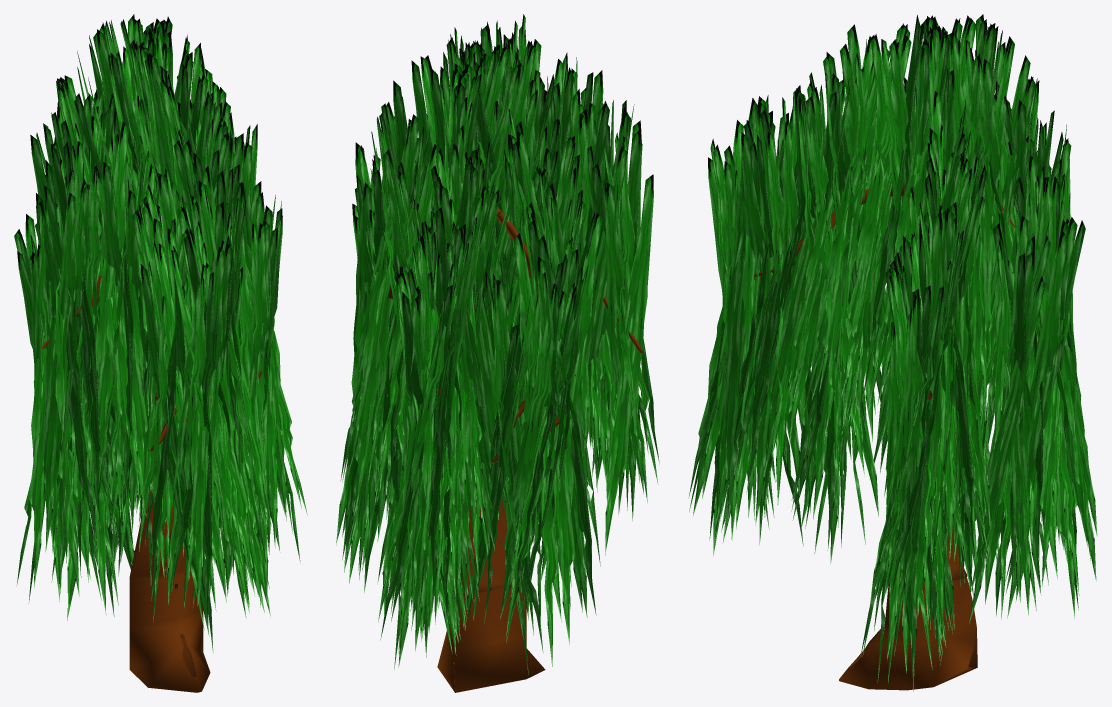
File: willow.fbx
3 views of the same model, side by side, from view 1: azimuth 30°, elevation 25°; view 2: azimuth 150°, elevation 25°; view 3: azimuth 270°, elevation 25° (orthographic). The views are drawn at different scales.
Visible parts, largest first — view 1: c090c787-1d18-485c-aed2-695b9deaaf12, c090c787-1d18-485c-aed2-695b9deaaf12|leaf1|Dupli|369, c090c787-1d18-485c-aed2-695b9deaaf12|leaf1|Dupli|445, c090c787-1d18-485c-aed2-695b9deaaf12|leaf1|Dupli|13, c090c787-1d18-485c-aed2-695b9deaaf12|leaf1|Dupli|178, c090c787-1d18-485c-aed2-695b9deaaf12|leaf1|Dupli|435, c090c787-1d18-485c-aed2-695b9deaaf12|leaf1|Dupli|384, c090c787-1d18-485c-aed2-695b9deaaf12|leaf1|Dupli|427, c090c787-1d18-485c-aed2-695b9deaaf12|leaf1|Dupli|446, c090c787-1d18-485c-aed2-695b9deaaf12|leaf1|Dupli|387, c090c787-1d18-485c-aed2-695b9deaaf12|leaf1|Dupli|450, c090c787-1d18-485c-aed2-695b9deaaf12|leaf1|Dupli|23 (+90 smaller); view 2: c090c787-1d18-485c-aed2-695b9deaaf12, c090c787-1d18-485c-aed2-695b9deaaf12|leaf1|Dupli|25, c090c787-1d18-485c-aed2-695b9deaaf12|leaf1|Dupli|455, c090c787-1d18-485c-aed2-695b9deaaf12|leaf1|Dupli|545, c090c787-1d18-485c-aed2-695b9deaaf12|leaf1|Dupli|135, c090c787-1d18-485c-aed2-695b9deaaf12|leaf1|Dupli|363, c090c787-1d18-485c-aed2-695b9deaaf12|leaf1|Dupli|119, c090c787-1d18-485c-aed2-695b9deaaf12|leaf1|Dupli|380, c090c787-1d18-485c-aed2-695b9deaaf12|leaf1|Dupli|303, c090c787-1d18-485c-aed2-695b9deaaf12|leaf1|Dupli|306, c090c787-1d18-485c-aed2-695b9deaaf12|leaf1|Dupli|333, c090c787-1d18-485c-aed2-695b9deaaf12|leaf1|Dupli|456 (+103 smaller); view 3: c090c787-1d18-485c-aed2-695b9deaaf12, c090c787-1d18-485c-aed2-695b9deaaf12|leaf1|Dupli|176, c090c787-1d18-485c-aed2-695b9deaaf12|leaf1|Dupli|267, c090c787-1d18-485c-aed2-695b9deaaf12|leaf1|Dupli|497, c090c787-1d18-485c-aed2-695b9deaaf12|leaf1|Dupli|126, c090c787-1d18-485c-aed2-695b9deaaf12|leaf1|Dupli|131, c090c787-1d18-485c-aed2-695b9deaaf12|leaf1|Dupli|255, c090c787-1d18-485c-aed2-695b9deaaf12|leaf1|Dupli|242, c090c787-1d18-485c-aed2-695b9deaaf12|leaf1|Dupli|257, c090c787-1d18-485c-aed2-695b9deaaf12|leaf1|Dupli|298, c090c787-1d18-485c-aed2-695b9deaaf12|leaf1|Dupli|244, c090c787-1d18-485c-aed2-695b9deaaf12|leaf1|Dupli|118 (+117 smaller).
Part boxes in pixels (<box>): c090c787-1d18-485c-aed2-695b9deaaf12: <box>42,193,261,692</box>; c090c787-1d18-485c-aed2-695b9deaaf12|leaf1|Dupli|369: <box>95,121,128,512</box>; c090c787-1d18-485c-aed2-695b9deaaf12|leaf1|Dupli|445: <box>42,168,74,552</box>; c090c787-1d18-485c-aed2-695b9deaaf12|leaf1|Dupli|13: <box>140,264,209,636</box>; c090c787-1d18-485c-aed2-695b9deaaf12|leaf1|Dupli|178: <box>190,262,212,606</box>; c090c787-1d18-485c-aed2-695b9deaaf12|leaf1|Dupli|435: <box>91,115,138,494</box>; c090c787-1d18-485c-aed2-695b9deaaf12|leaf1|Dupli|384: <box>63,142,100,529</box>; c090c787-1d18-485c-aed2-695b9deaaf12|leaf1|Dupli|427: <box>29,203,57,587</box>; c090c787-1d18-485c-aed2-695b9deaaf12|leaf1|Dupli|446: <box>55,158,71,563</box>; c090c787-1d18-485c-aed2-695b9deaaf12|leaf1|Dupli|387: <box>45,160,96,550</box>; c090c787-1d18-485c-aed2-695b9deaaf12|leaf1|Dupli|450: <box>108,137,147,516</box>; c090c787-1d18-485c-aed2-695b9deaaf12|leaf1|Dupli|23: <box>171,250,246,617</box>; c090c787-1d18-485c-aed2-695b9deaaf12: <box>388,208,642,692</box>; c090c787-1d18-485c-aed2-695b9deaaf12|leaf1|Dupli|25: <box>605,174,653,555</box>; c090c787-1d18-485c-aed2-695b9deaaf12|leaf1|Dupli|455: <box>549,258,575,644</box>; c090c787-1d18-485c-aed2-695b9deaaf12|leaf1|Dupli|545: <box>354,271,387,514</box>; c090c787-1d18-485c-aed2-695b9deaaf12|leaf1|Dupli|135: <box>583,146,627,450</box>; c090c787-1d18-485c-aed2-695b9deaaf12|leaf1|Dupli|363: <box>540,212,602,583</box>; c090c787-1d18-485c-aed2-695b9deaaf12|leaf1|Dupli|119: <box>605,182,635,502</box>; c090c787-1d18-485c-aed2-695b9deaaf12|leaf1|Dupli|380: <box>467,325,518,616</box>; c090c787-1d18-485c-aed2-695b9deaaf12|leaf1|Dupli|303: <box>421,255,441,633</box>; c090c787-1d18-485c-aed2-695b9deaaf12|leaf1|Dupli|306: <box>410,262,436,651</box>; c090c787-1d18-485c-aed2-695b9deaaf12|leaf1|Dupli|333: <box>430,221,456,612</box>; c090c787-1d18-485c-aed2-695b9deaaf12|leaf1|Dupli|456: <box>536,327,558,666</box>; c090c787-1d18-485c-aed2-695b9deaaf12: <box>754,184,1039,690</box>; c090c787-1d18-485c-aed2-695b9deaaf12|leaf1|Dupli|176: <box>724,98,757,523</box>; c090c787-1d18-485c-aed2-695b9deaaf12|leaf1|Dupli|267: <box>969,276,1045,624</box>; c090c787-1d18-485c-aed2-695b9deaaf12|leaf1|Dupli|497: <box>913,212,943,609</box>; c090c787-1d18-485c-aed2-695b9deaaf12|leaf1|Dupli|126: <box>763,125,826,477</box>; c090c787-1d18-485c-aed2-695b9deaaf12|leaf1|Dupli|131: <box>824,36,872,437</box>; c090c787-1d18-485c-aed2-695b9deaaf12|leaf1|Dupli|255: <box>1015,231,1068,602</box>; c090c787-1d18-485c-aed2-695b9deaaf12|leaf1|Dupli|242: <box>971,14,991,387</box>; c090c787-1d18-485c-aed2-695b9deaaf12|leaf1|Dupli|257: <box>1007,217,1077,618</box>; c090c787-1d18-485c-aed2-695b9deaaf12|leaf1|Dupli|298: <box>1039,218,1069,586</box>; c090c787-1d18-485c-aed2-695b9deaaf12|leaf1|Dupli|244: <box>1005,255,1030,615</box>; c090c787-1d18-485c-aed2-695b9deaaf12|leaf1|Dupli|118: <box>847,27,910,415</box>.
Size of the model in its own units: 33.94 by 79.23 by 44.29.
